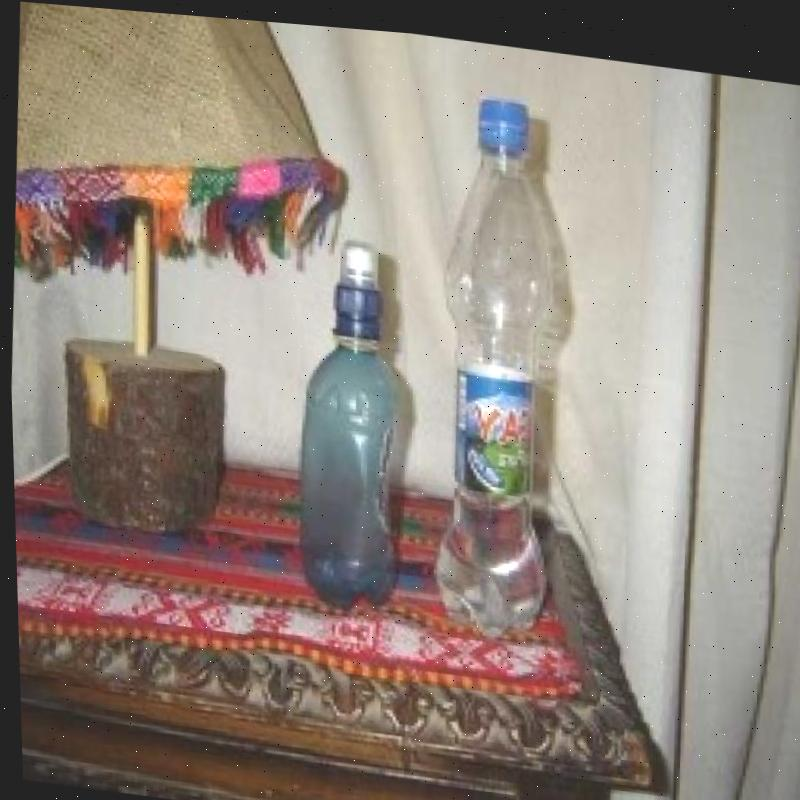botella: (423, 89, 588, 633), (283, 231, 430, 618)
